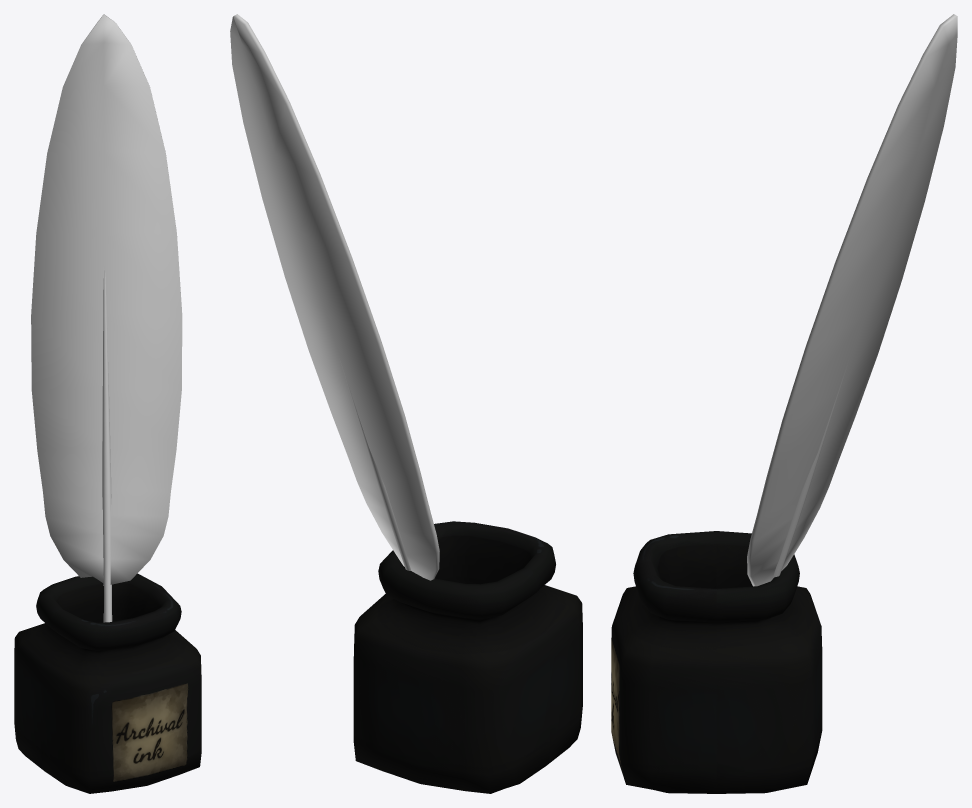
3 renders of one model, left to right at view 1: azimuth 30°, elevation 25°; view 2: azimuth 150°, elevation 25°; view 3: azimuth 270°, elevation 25°, orthographic. The views are drawn at different scales.
Parts seen in each view (by area): view 1: Quill, Inkwell; view 2: Inkwell, Quill; view 3: Inkwell, Quill.
Part boxes in pixels (x1,y1,x2,y2): Quill: (31, 14, 182, 622); Inkwell: (14, 573, 201, 793); Inkwell: (353, 521, 582, 793); Quill: (230, 14, 439, 580); Inkwell: (611, 531, 822, 793); Quill: (747, 14, 957, 586).
Size of the model in its own units: 13.5 by 44.95 by 17.58.
